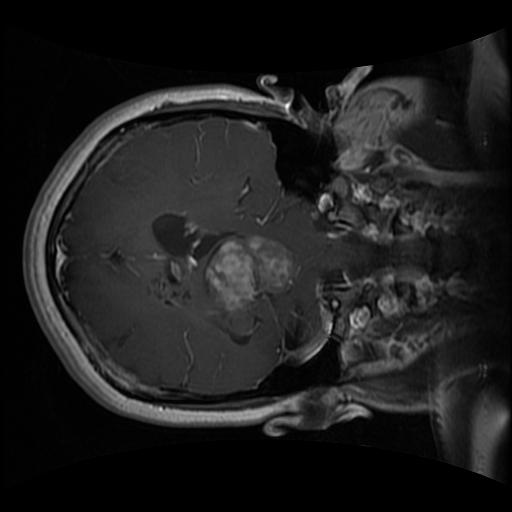glioma: (202, 234, 302, 344)
